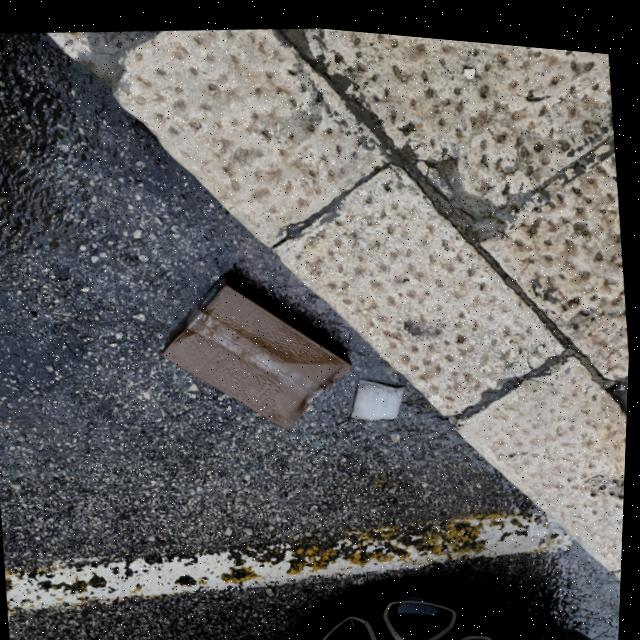Other: (148, 251, 366, 449), (345, 364, 422, 430)
